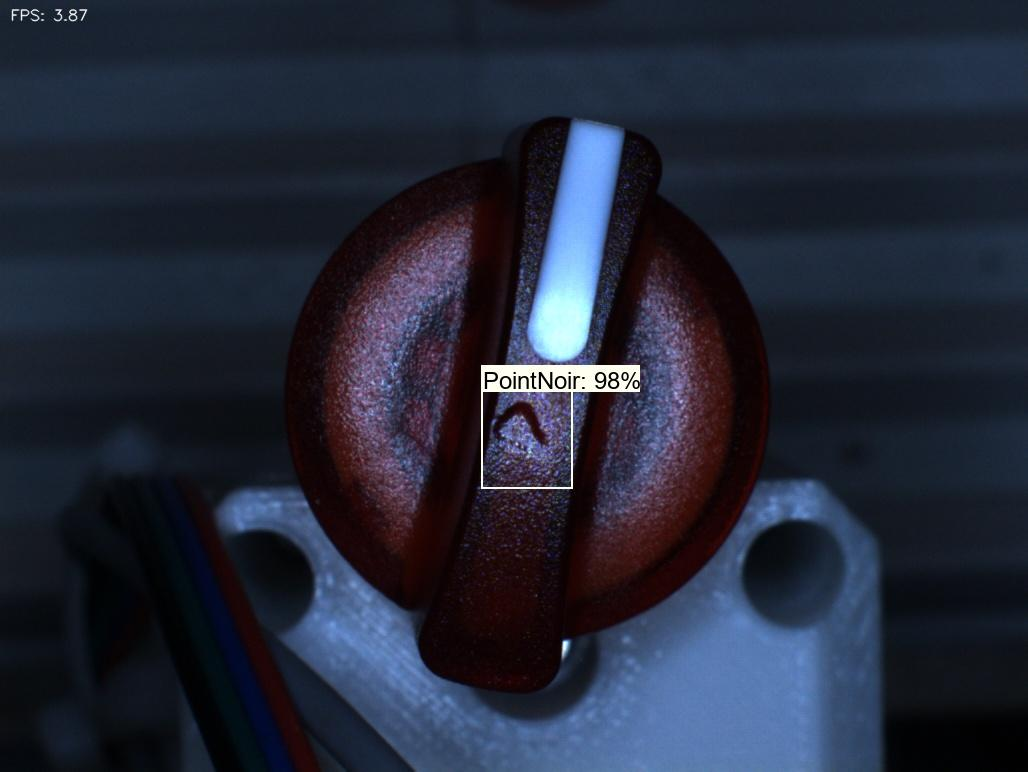Choc: (464, 392, 568, 476)
